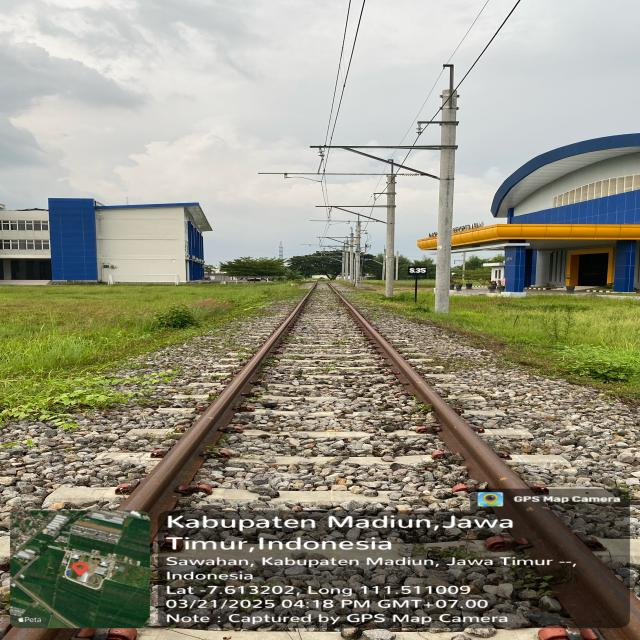rail-detection: (341, 297, 638, 628), (120, 293, 309, 535)
